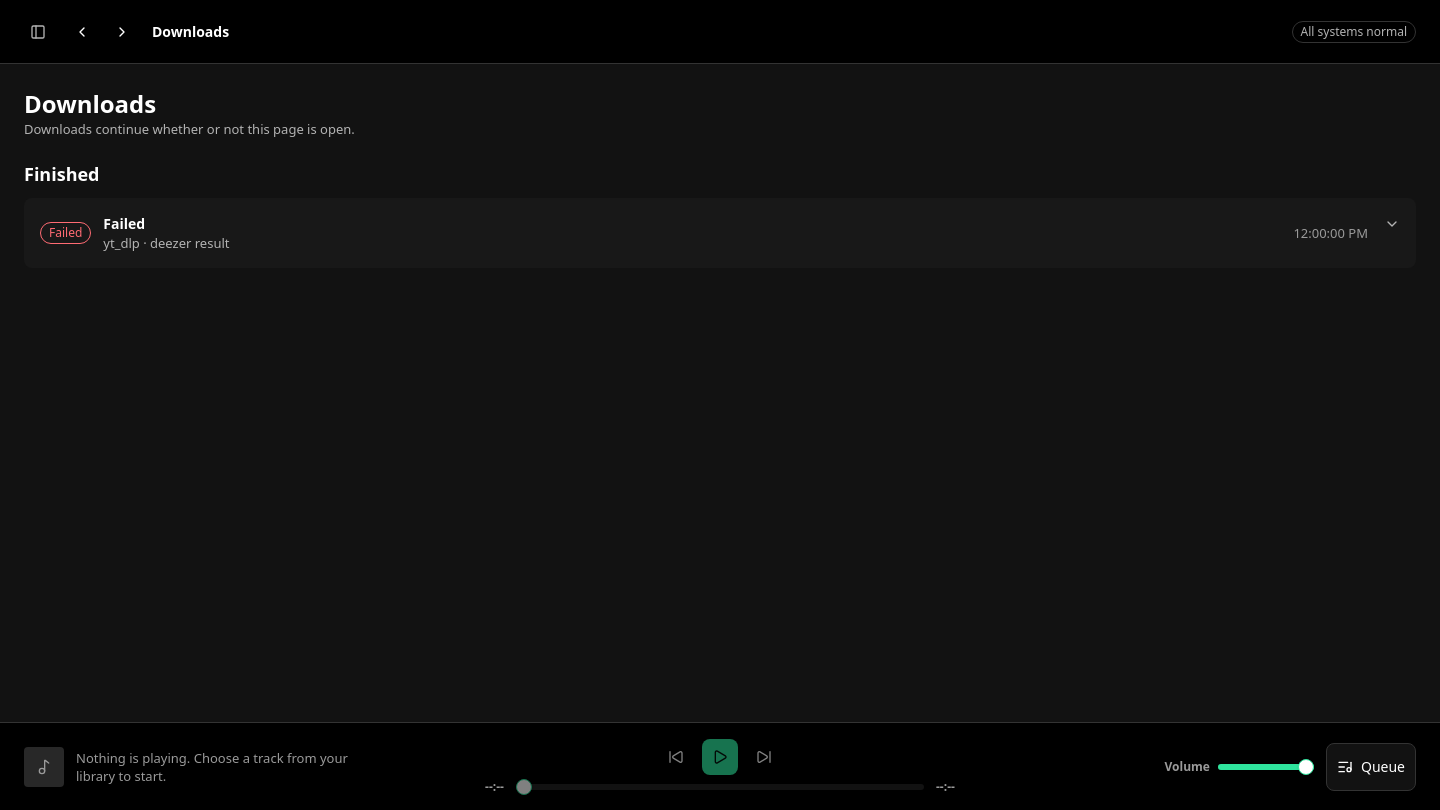
Test: S11 downloads › keeps a failure summary plain and its detail disclosed
Expected: the text "The audio for that track could not be retrieved." is not shown
Click the button "Failed Failed yt_dlp · deezer result 12:00:00 PM" at (66, 233), box [24, 198, 1416, 268]
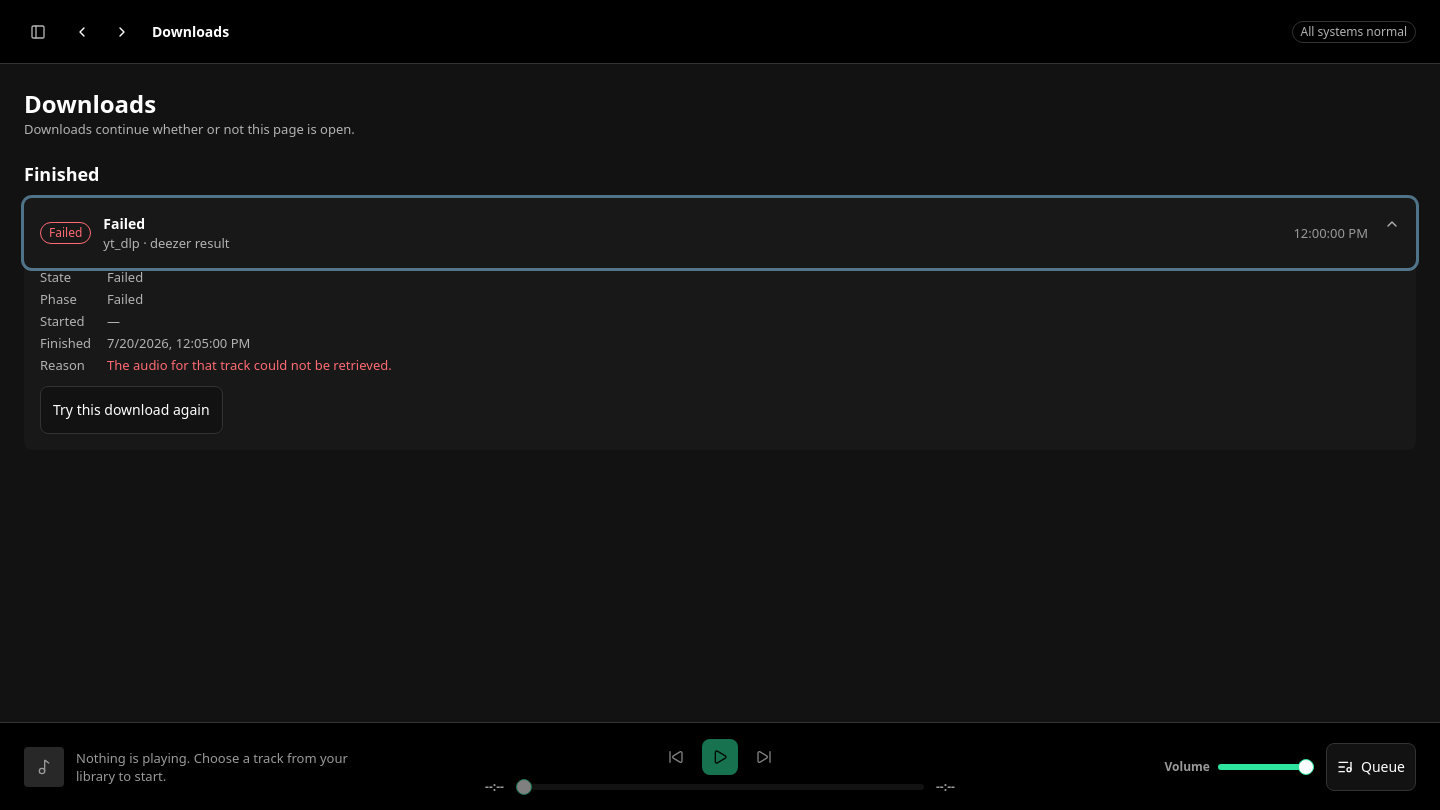
Expected: the text "The audio for that track could not be retrieved." is shown, [107, 356, 392, 374]
